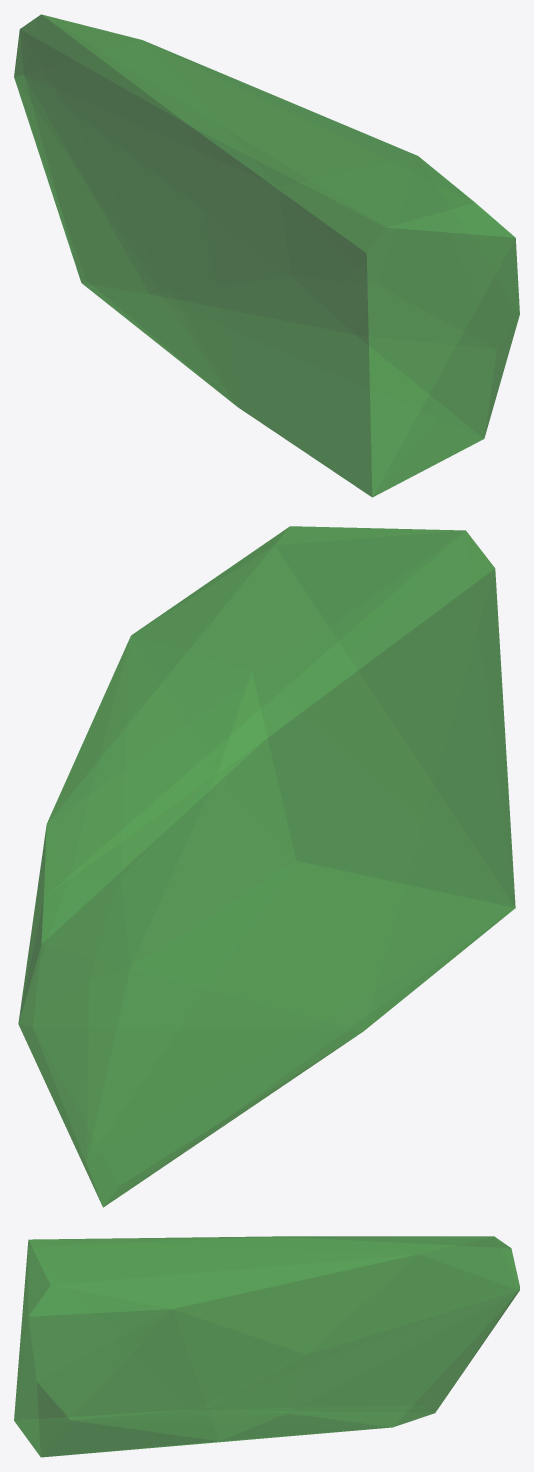
The picture shows the model from 3 angles, top to bottom: view 1: azimuth 30°, elevation 25°; view 2: azimuth 150°, elevation 25°; view 3: azimuth 270°, elevation 25°; orthographic projection. The views are drawn at different scales.
Visible parts, largest first — view 1: Shape_IndexedFaceSet.015_Shape_IndexedFaceSet.7501; view 2: Shape_IndexedFaceSet.015_Shape_IndexedFaceSet.7501; view 3: Shape_IndexedFaceSet.015_Shape_IndexedFaceSet.7501.
Boxes of the visible parts, x1,y1,x2,y2 form: Shape_IndexedFaceSet.015_Shape_IndexedFaceSet.7501: [14, 14, 519, 497]; Shape_IndexedFaceSet.015_Shape_IndexedFaceSet.7501: [18, 526, 515, 1207]; Shape_IndexedFaceSet.015_Shape_IndexedFaceSet.7501: [14, 1236, 519, 1457].
Size of the model in its own units: 0.1329 by 0.1825 by 0.4409.
